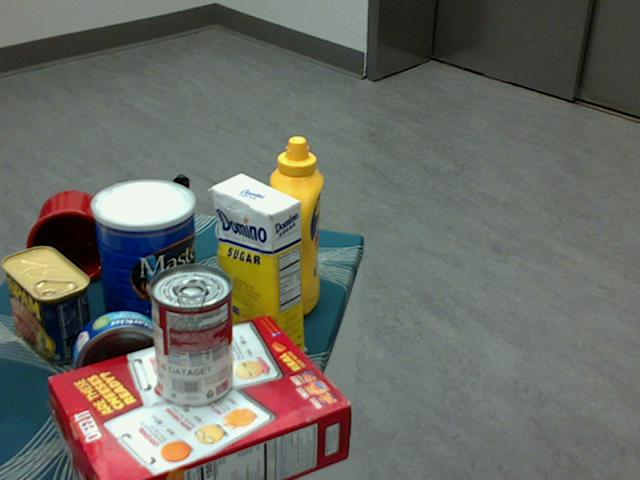cracker_box: (50, 316, 351, 479)
large_marker: (173, 174, 193, 270)
master_chef_can: (90, 179, 198, 343)
mug: (19, 190, 112, 285)
mustard_bottle: (267, 135, 322, 315)
potted_meat_can: (0, 245, 93, 363)
sugar_box: (212, 172, 304, 366)
tomato_soup_can: (148, 265, 231, 408)
tuna_fish_can: (73, 311, 169, 405)
